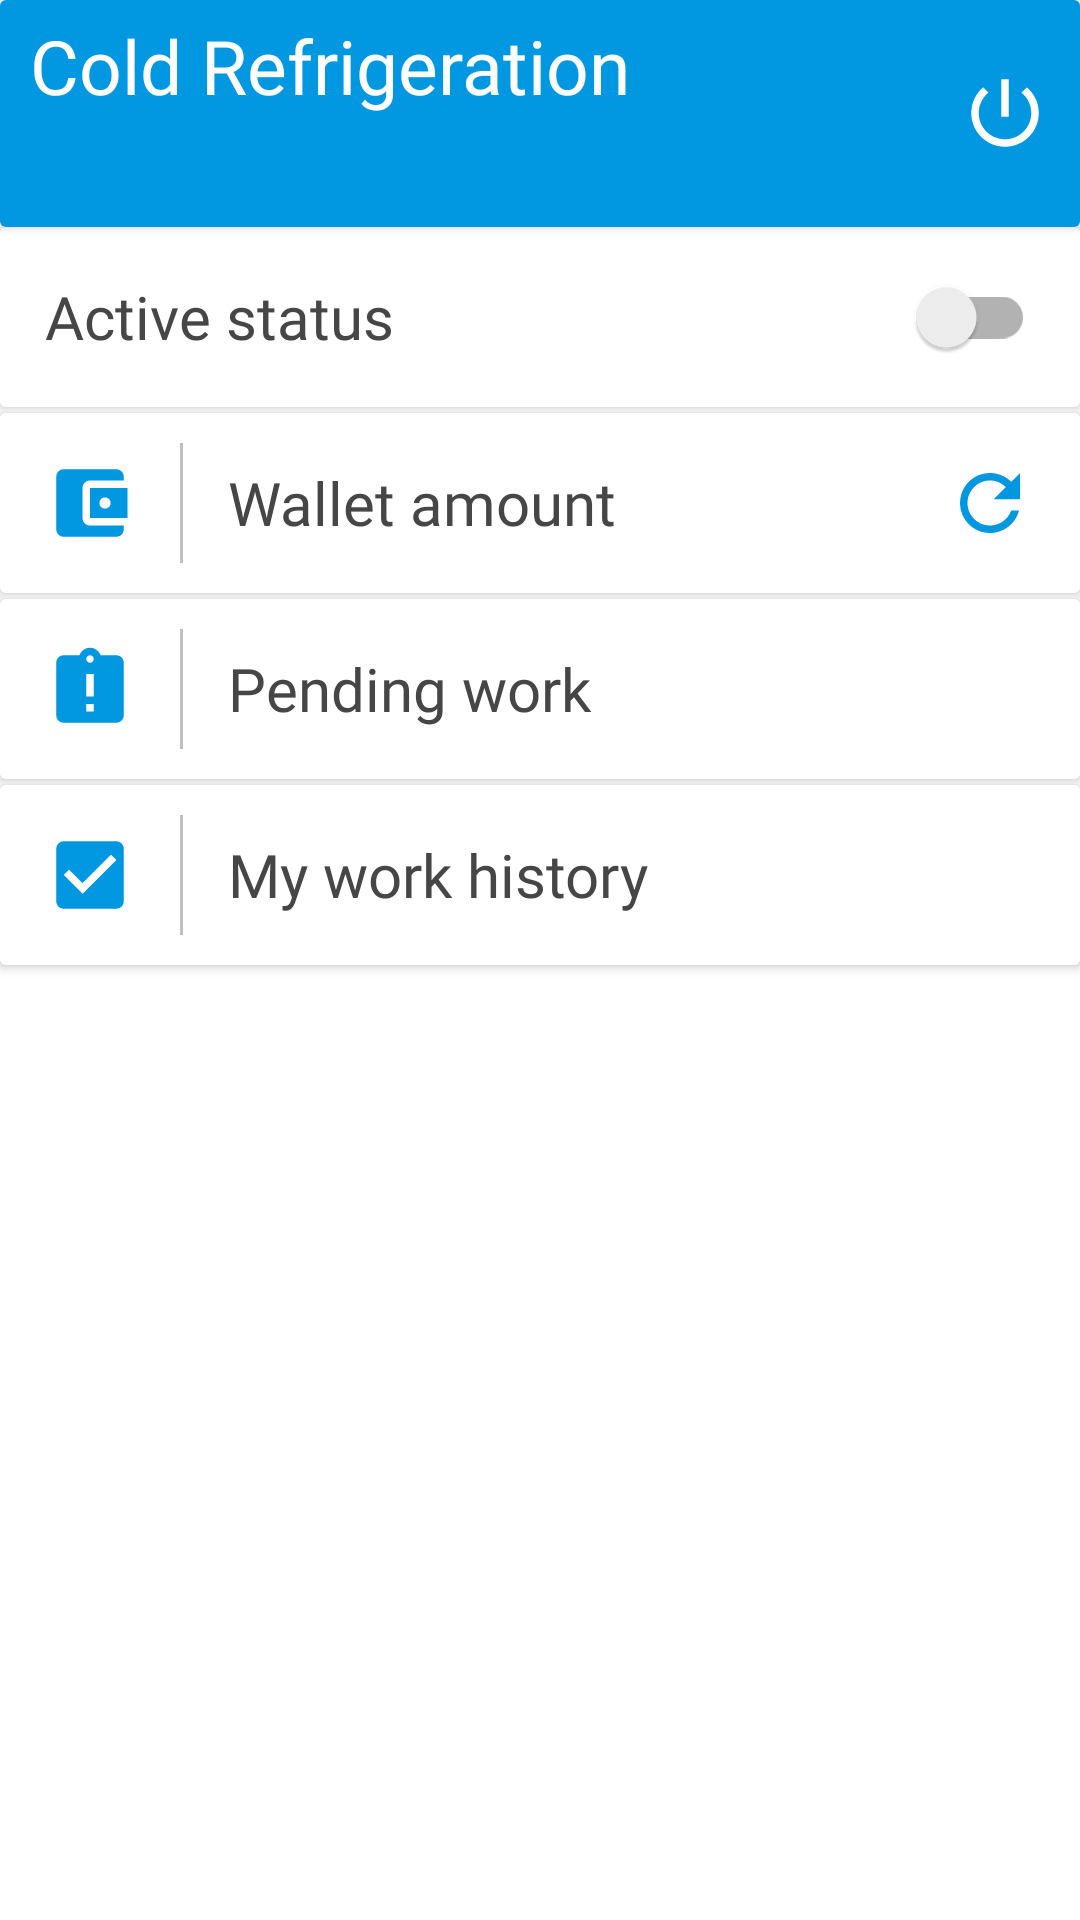

Icon click points for this 1080×1920 phone screenshot, format (x,y):
check: (90,875)
refresh: (990,503)
sign out: (1005,113)
